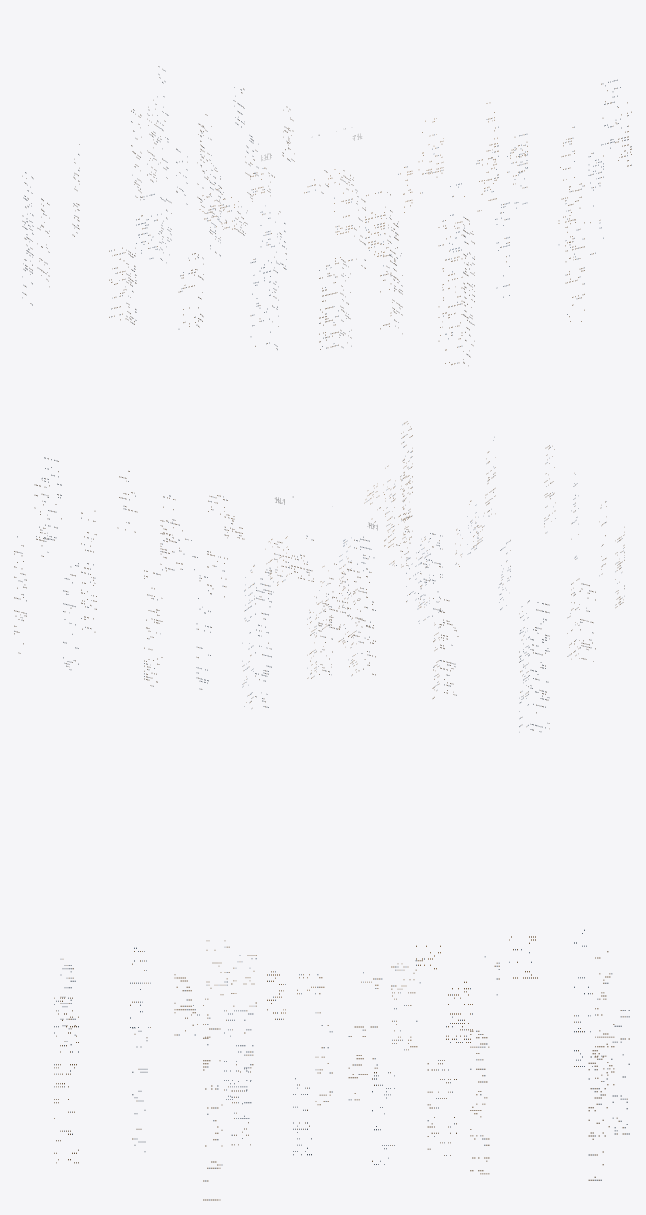
The model's file is overpass_reflect_light.glb.
3 renders of one model, top to bottom at view 1: azimuth 30°, elevation 25°; view 2: azimuth 150°, elevation 25°; view 3: azimuth 270°, elevation 25°, orthographic. The views are drawn at different scales.
Visible parts, largest first — view 1: reflect_light; view 2: reflect_light; view 3: reflect_light.
Boxes of the visible parts, x1=… form: reflect_light: x1=22, y1=66, x2=631, y2=365; reflect_light: x1=14, y1=421, x2=624, y2=732; reflect_light: x1=54, y1=929, x2=629, y2=1200.
Size of the model in its own units: 748 by 183 by 584.
